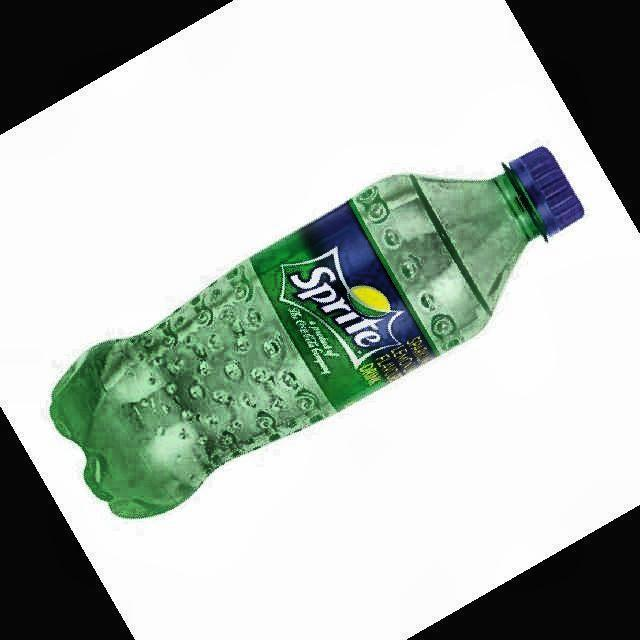plastic: (52, 148, 582, 517)
